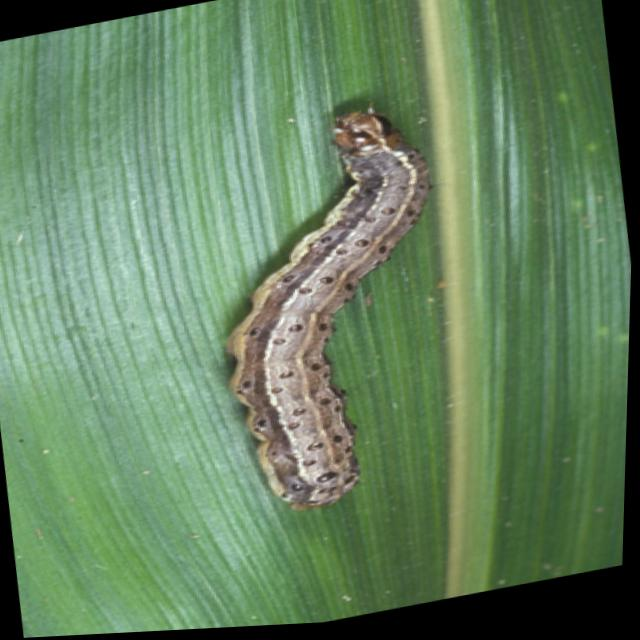Fall-Armyworm: (173, 96, 499, 534)
